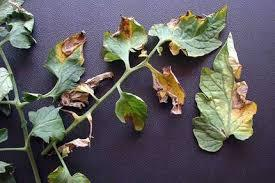Verticillium wilt: (152, 75, 182, 114), (60, 31, 85, 62), (114, 16, 138, 38), (232, 81, 251, 108)
